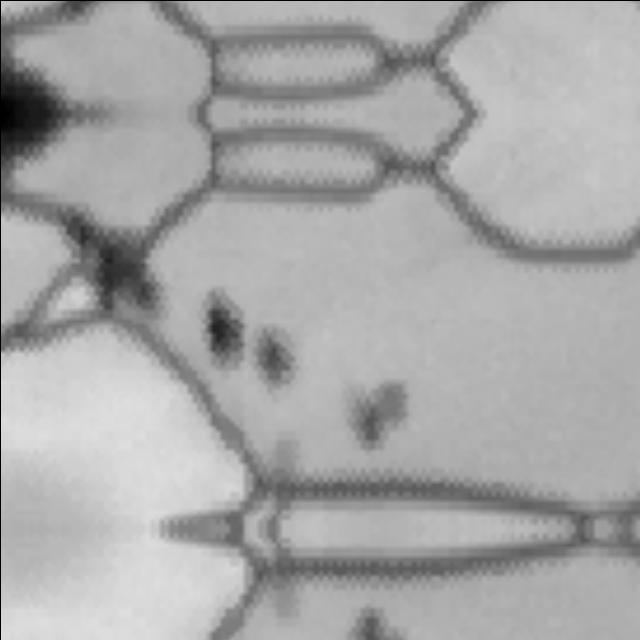good_void: (55, 200, 168, 318), (340, 376, 412, 449), (244, 318, 304, 398), (198, 284, 244, 375), (259, 564, 304, 629), (259, 427, 304, 491), (341, 607, 410, 640)
